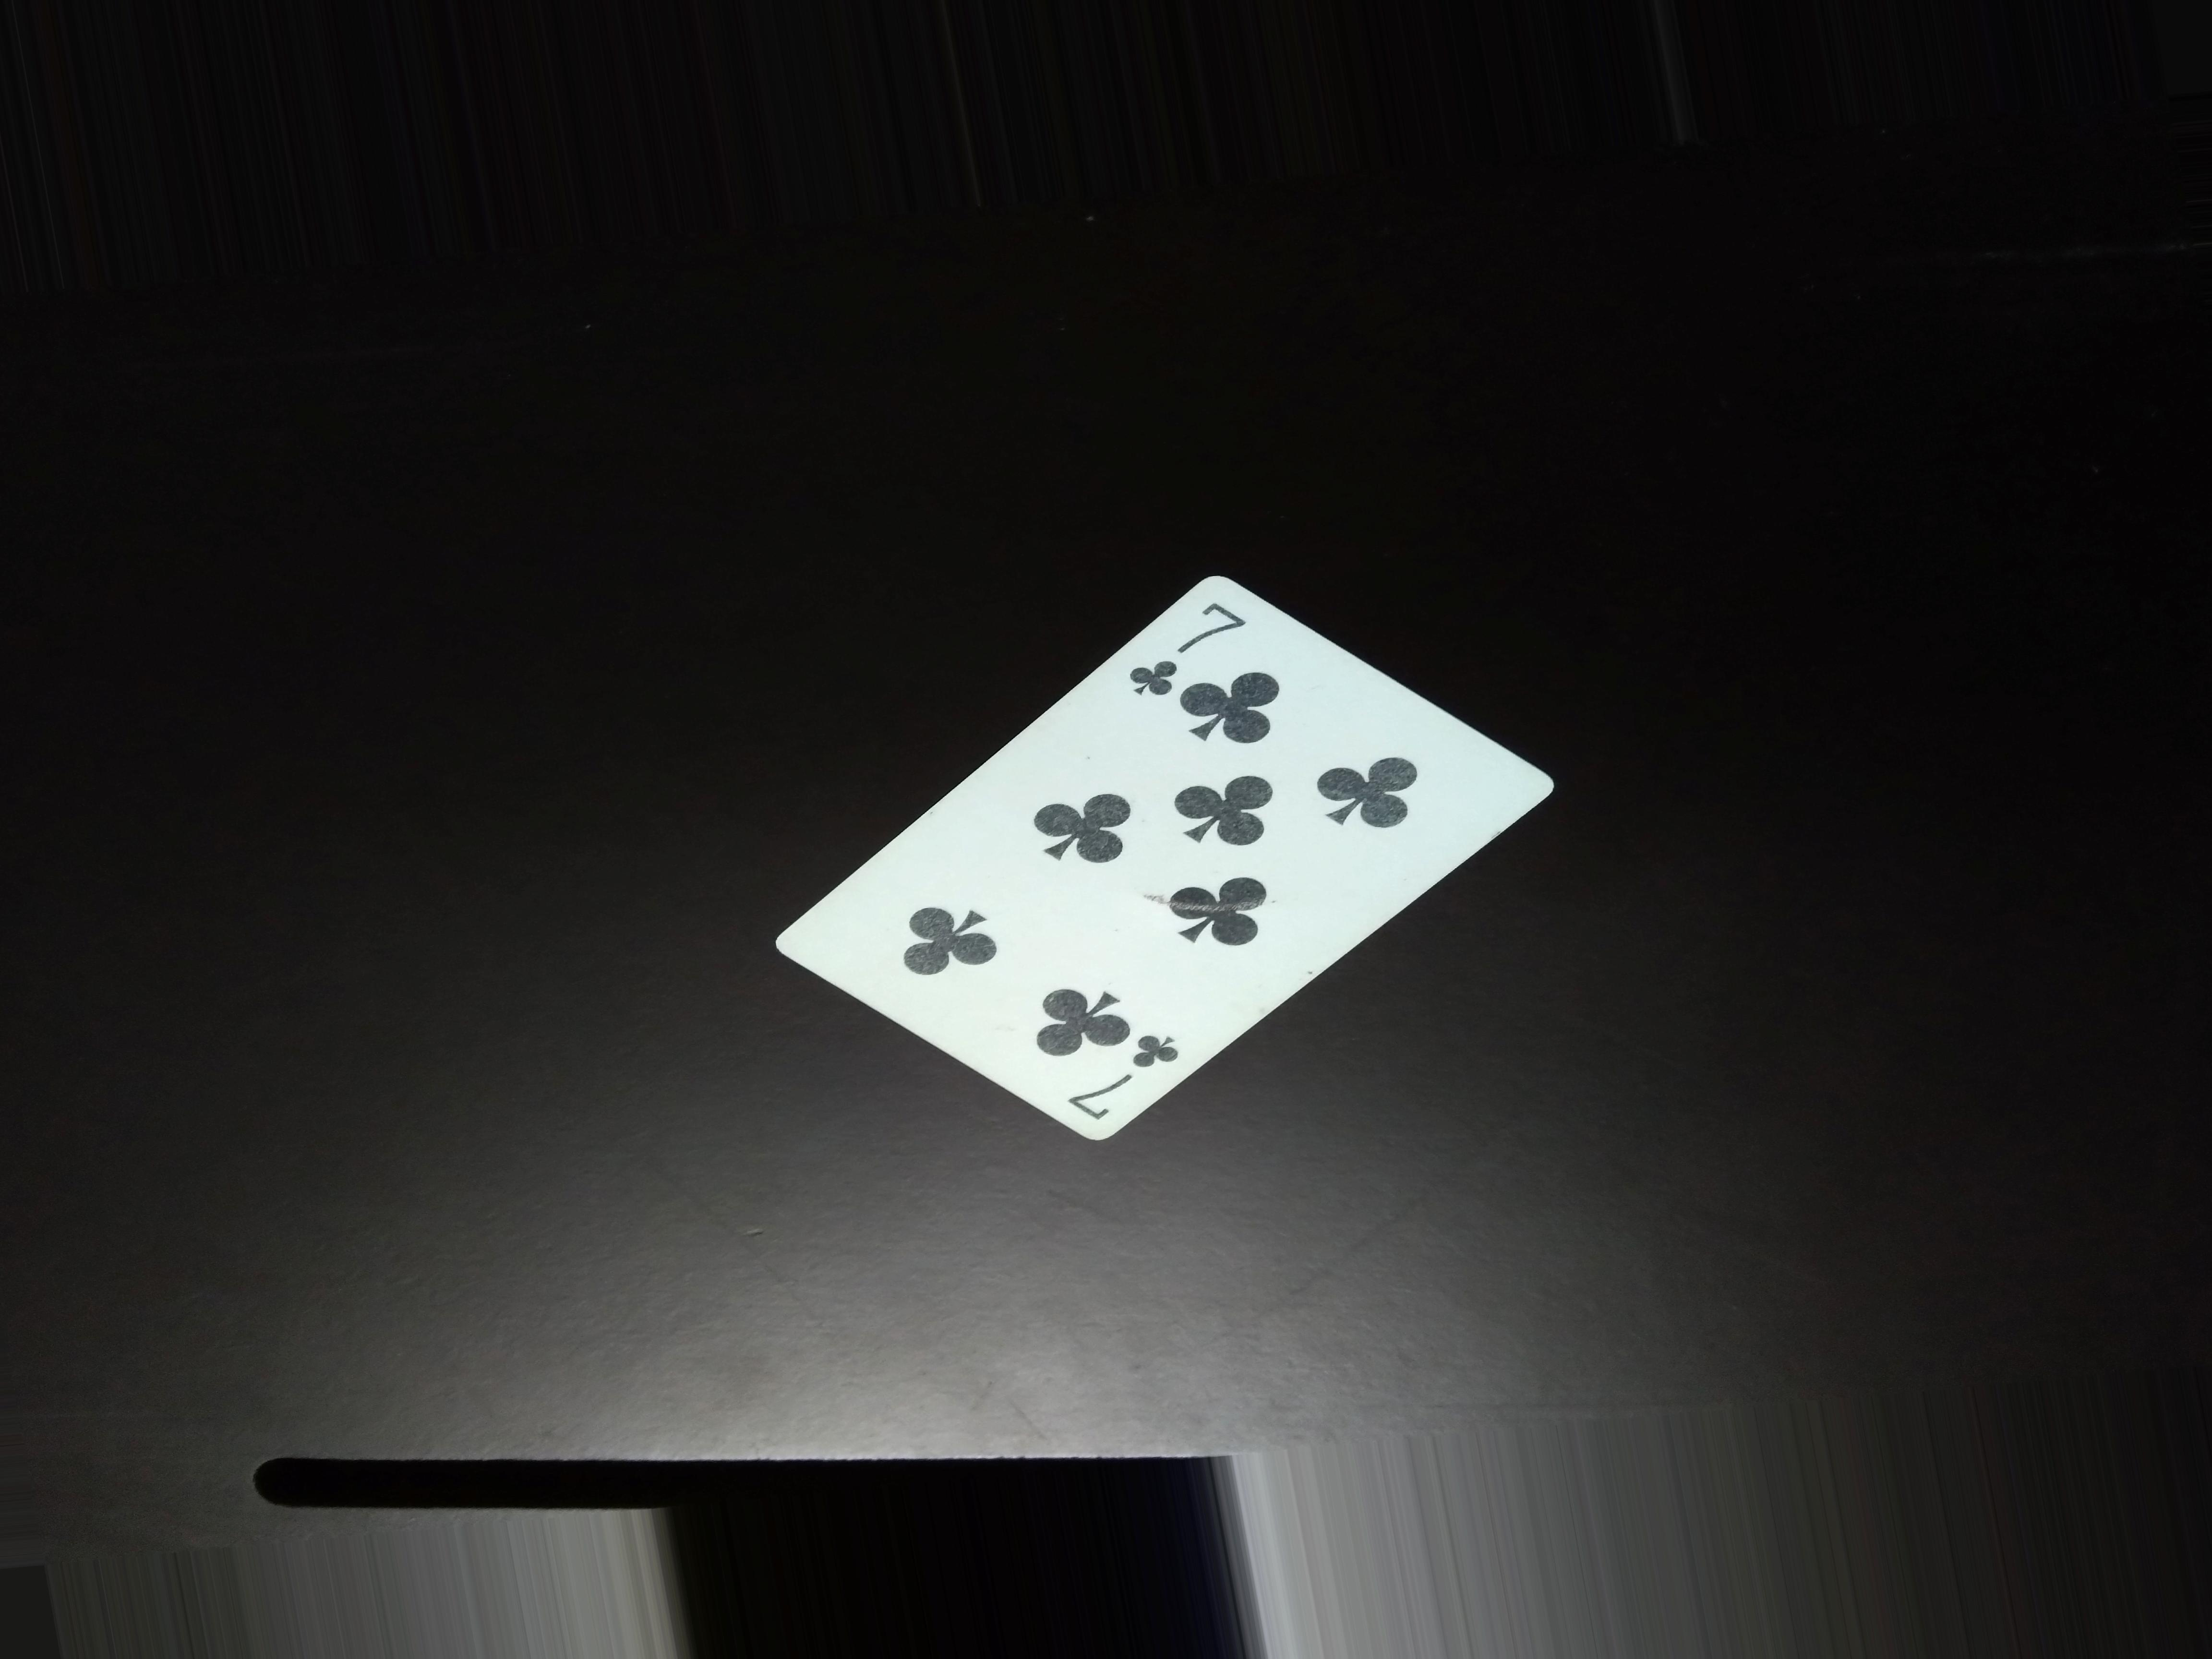7C: (1118, 586, 1258, 723)
